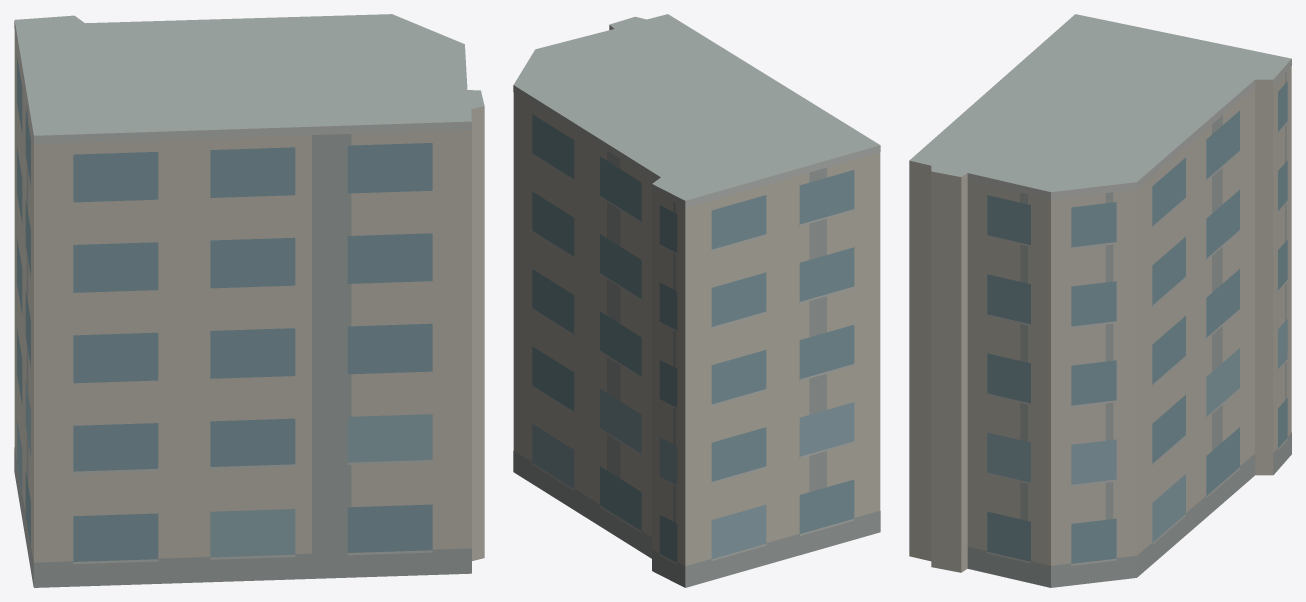
The model's file is survey-upis-32725444.glb.
The picture shows the model from 3 angles, left to right: view 1: azimuth 30°, elevation 25°; view 2: azimuth 150°, elevation 25°; view 3: azimuth 270°, elevation 25°; orthographic projection. The views are drawn at different scales.
Visible parts, largest first — view 1: survey-upis-32725444.tmp; view 2: survey-upis-32725444.tmp; view 3: survey-upis-32725444.tmp.
Part boxes in pixels (box(x1,y1,x2,y2)): survey-upis-32725444.tmp: box(14, 14, 484, 587); survey-upis-32725444.tmp: box(513, 14, 880, 587); survey-upis-32725444.tmp: box(909, 14, 1291, 587).
Bounding box in the file's own units: 12.76 × 13.2 × 11.58.
